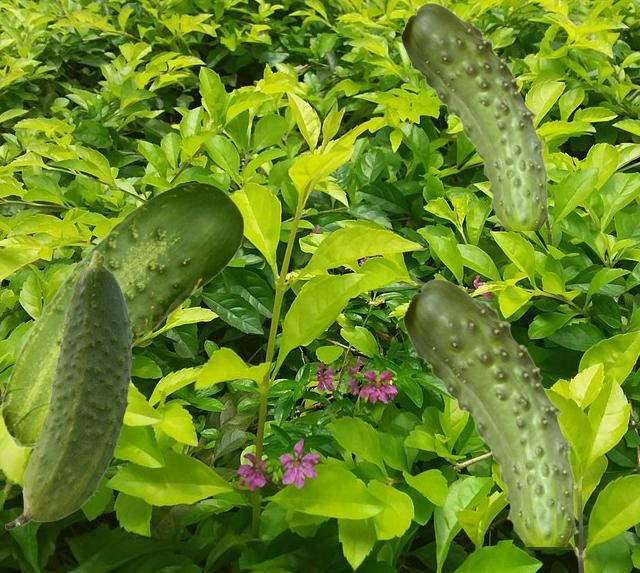cucumber: (0, 182, 243, 449), (402, 278, 578, 545), (5, 250, 133, 528), (400, 2, 550, 229)
